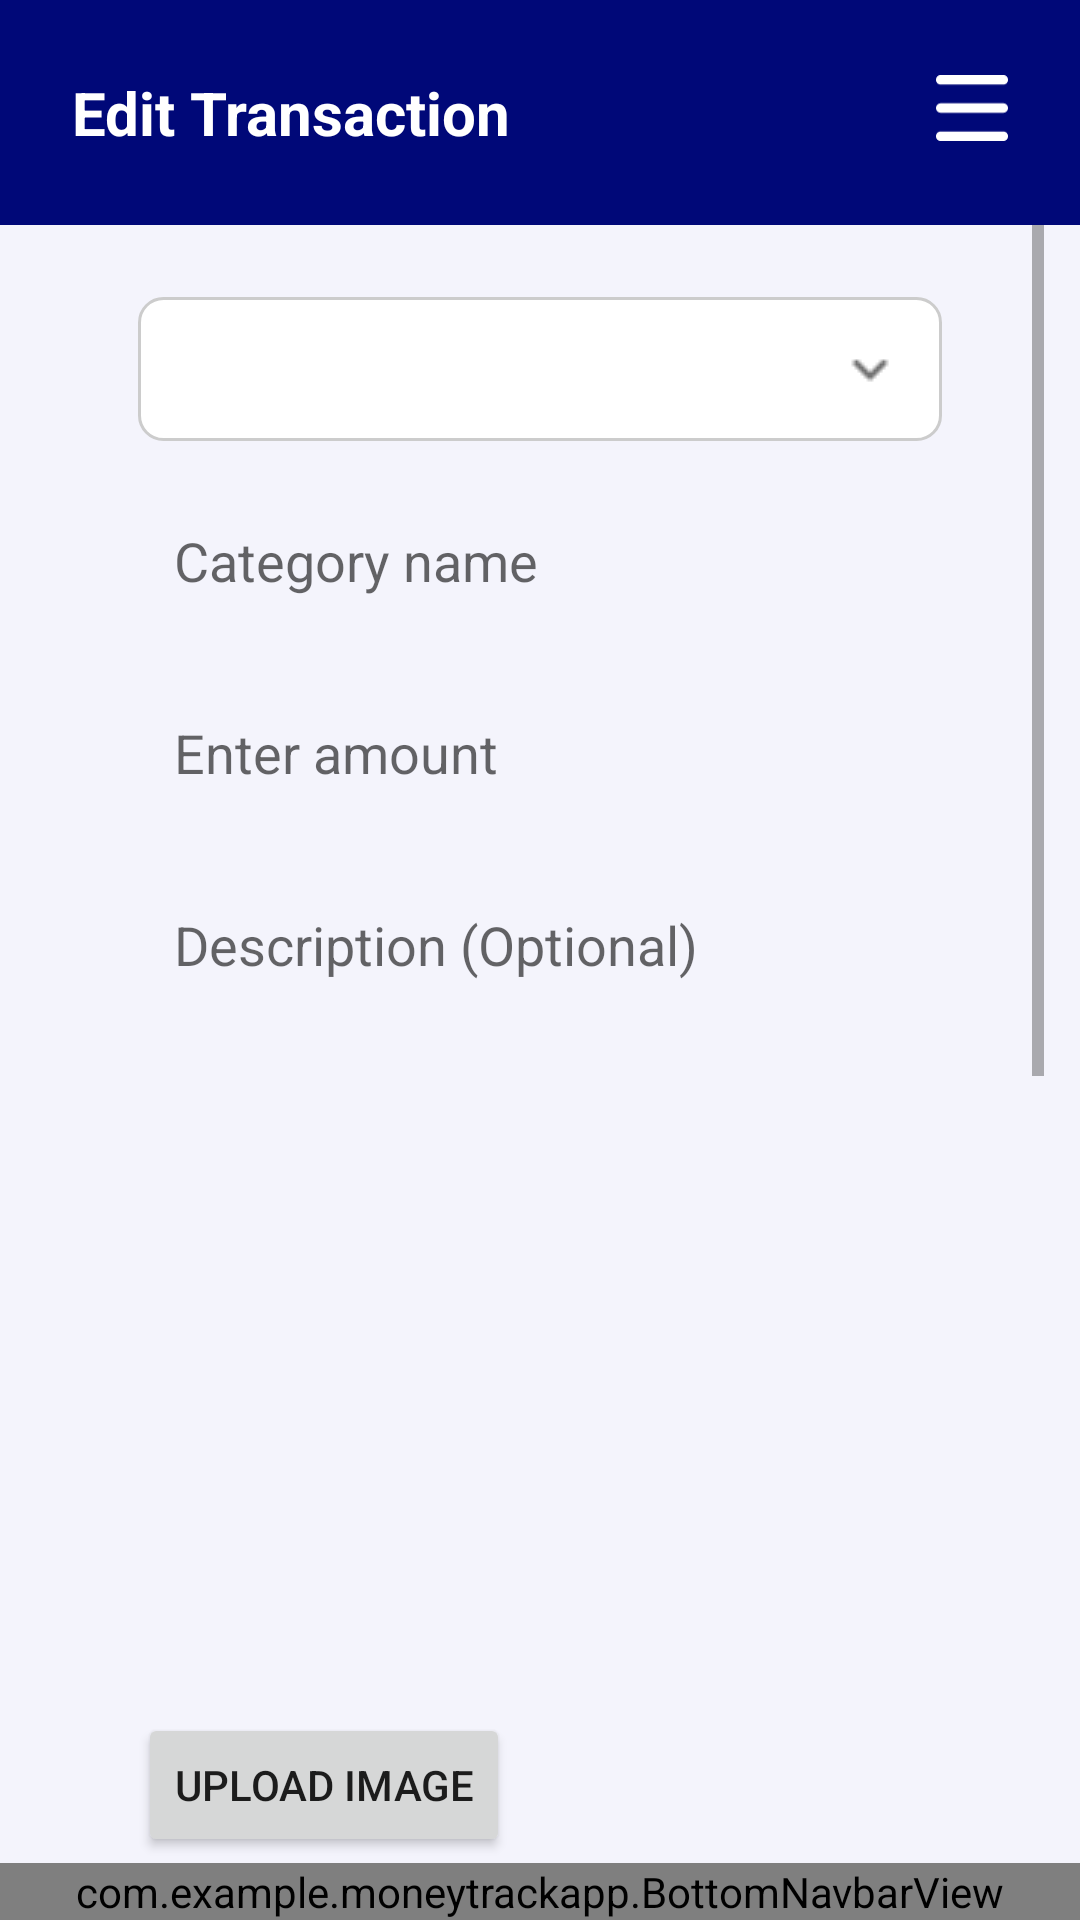

Named icons in this screenshot (1080*1920) and their centers, point (x, y):
Menu: point (972, 108)
